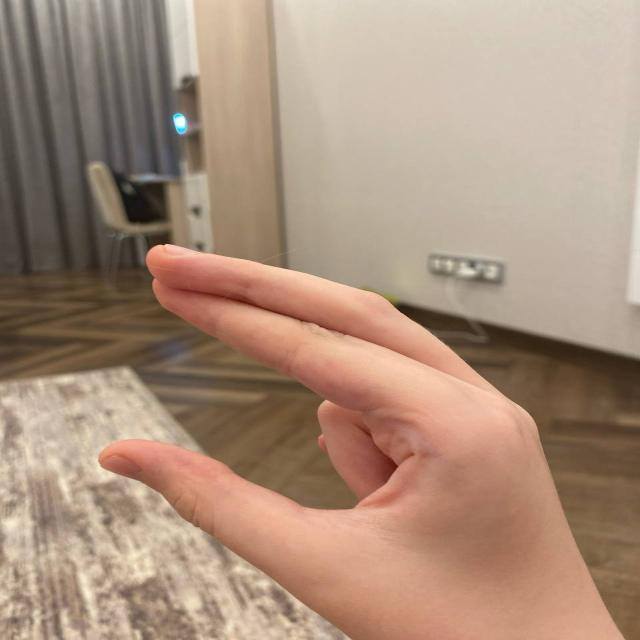ia: (71, 228, 609, 608)
